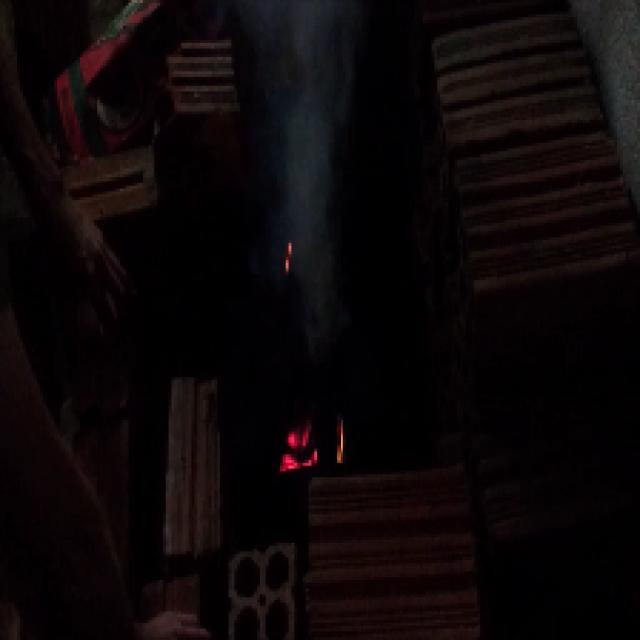smoke: (258, 24, 344, 300)
